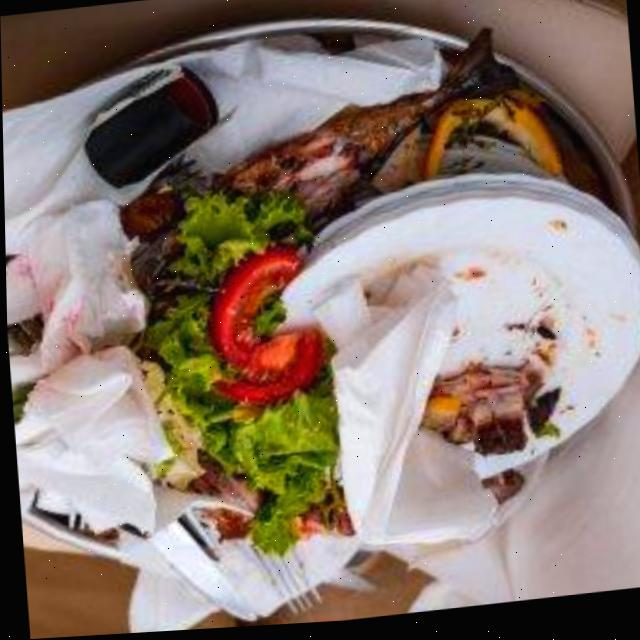Garbage: (2, 17, 640, 636)
contaminated_waste: (282, 179, 640, 481)
